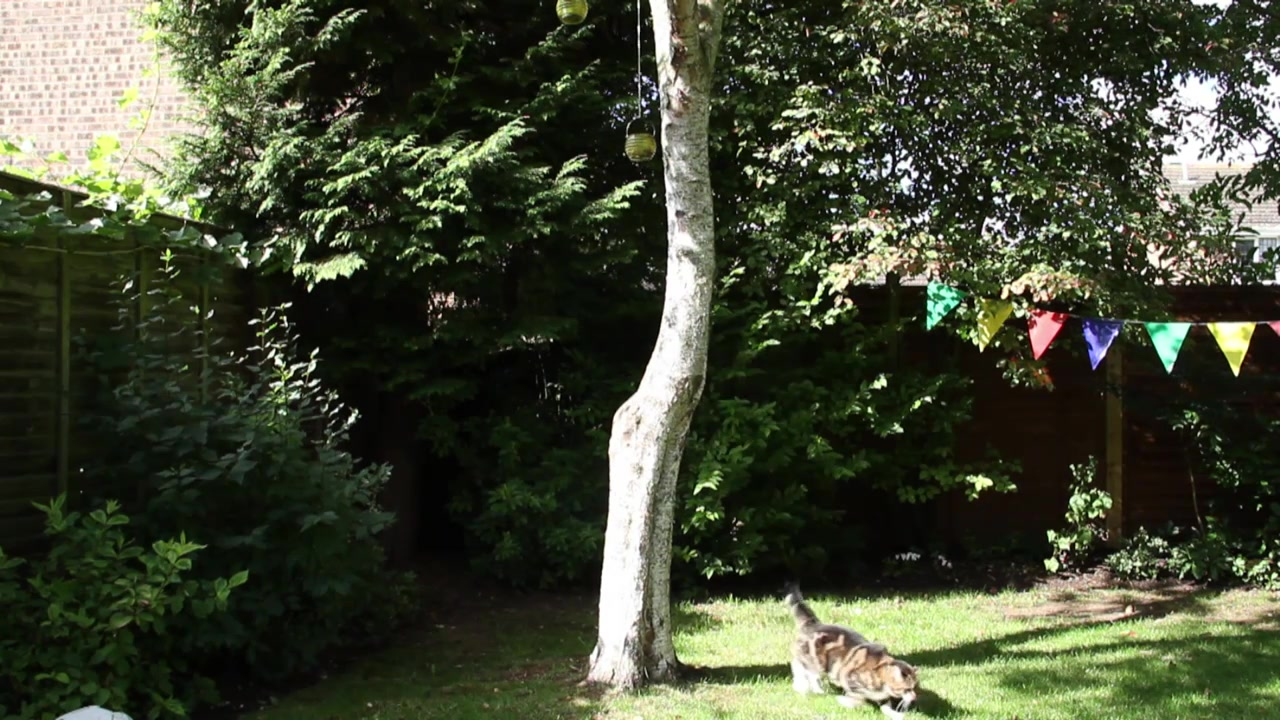cat: (784, 587, 924, 719)
